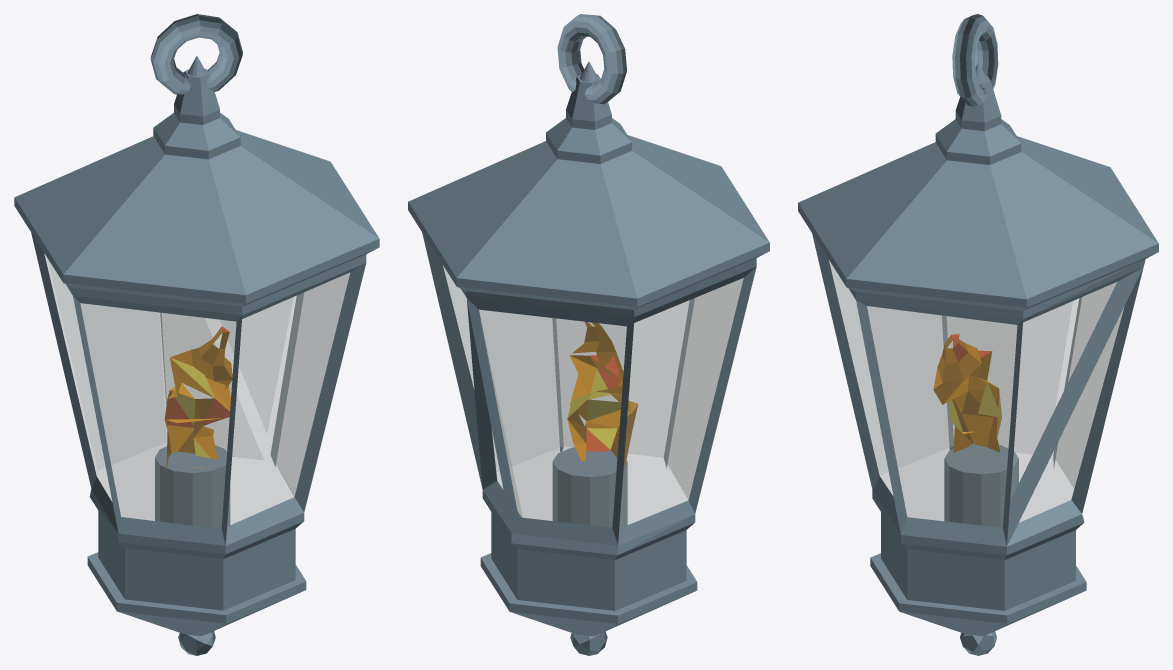
File: Lantern.glb
3 views of the same model, side by side, from view 1: azimuth 30°, elevation 25°; view 2: azimuth 150°, elevation 25°; view 3: azimuth 270°, elevation 25° (orthographic).
Parts seen in each view (by area): view 1: Node; view 2: Node; view 3: Node.
Part boxes in pixels (bbox=[...]): Node: bbox=[14, 14, 379, 655]; Node: bbox=[408, 14, 769, 655]; Node: bbox=[798, 14, 1158, 655].
Size of the model in its own units: 0.3867 by 0.751 by 0.3867.
